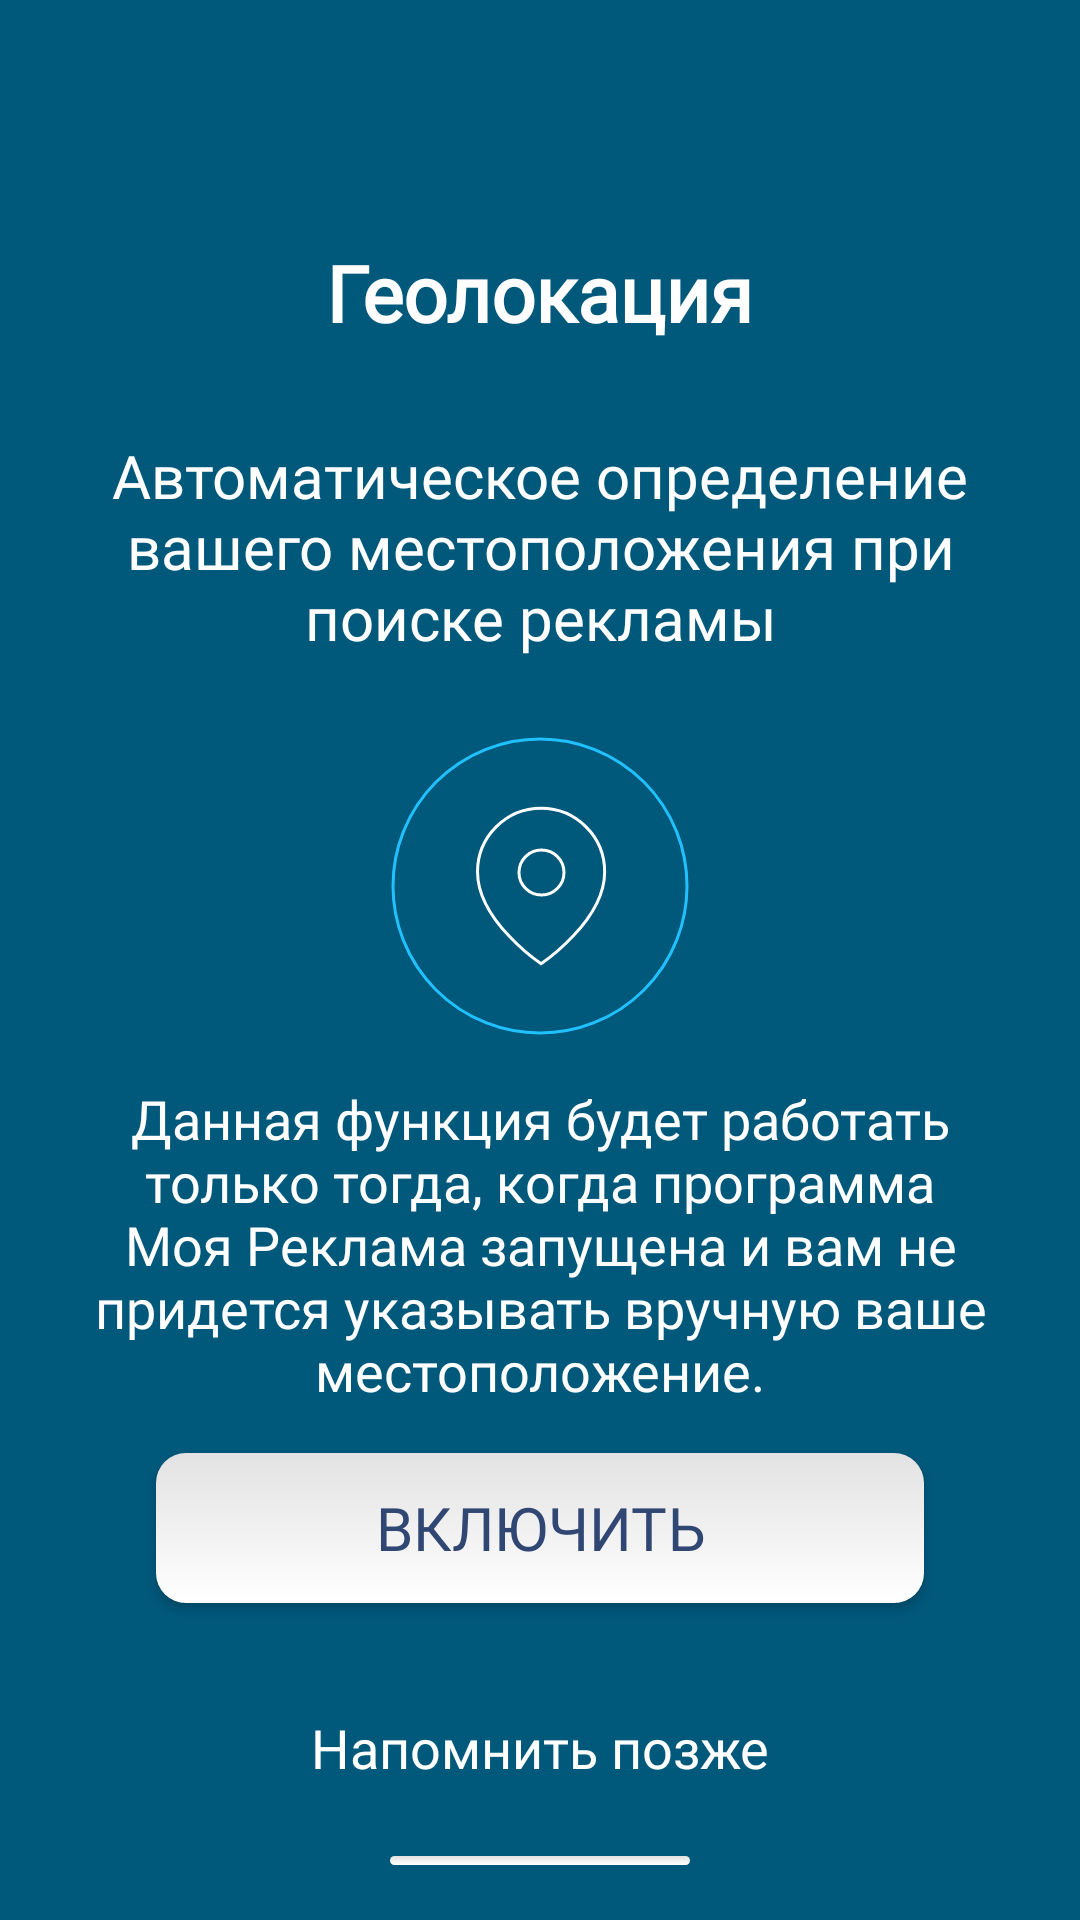

Locate icon controls on the screen. Image size 1080×1920, boxes as bbox(x1, y1, x2, y2).
location: bbox(391, 737, 689, 1035)
